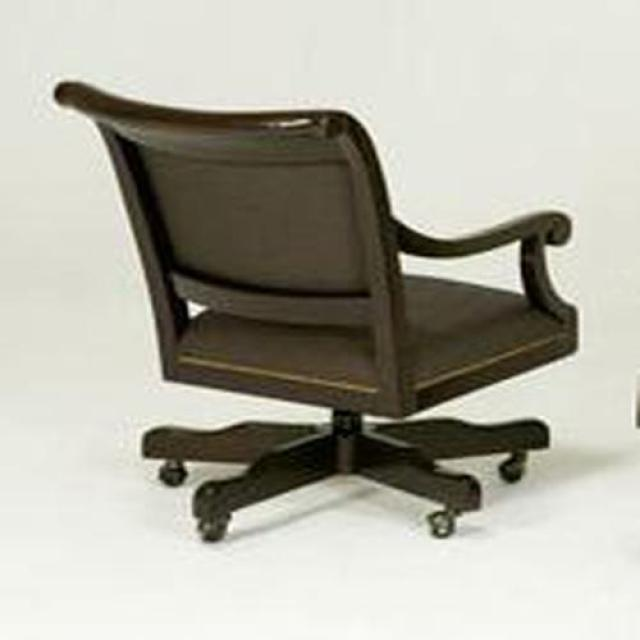swivelchair: (54, 83, 580, 544)
